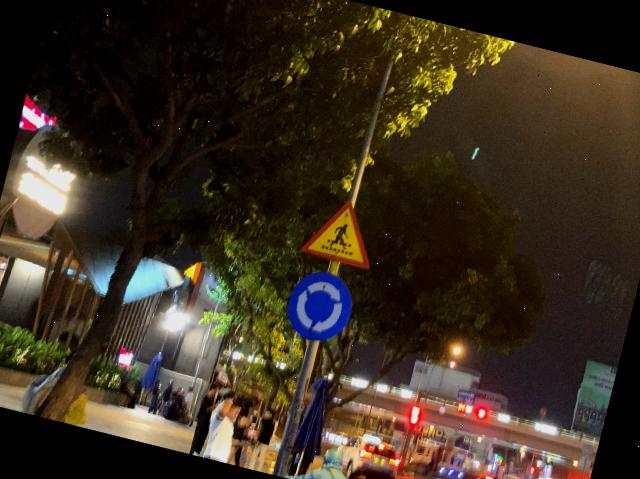duong-nguoi-di-bo-cat-ngang: (300, 192, 383, 268)
noi-giao-nhau-chay-theo-vong-xuyen: (280, 265, 360, 348)
